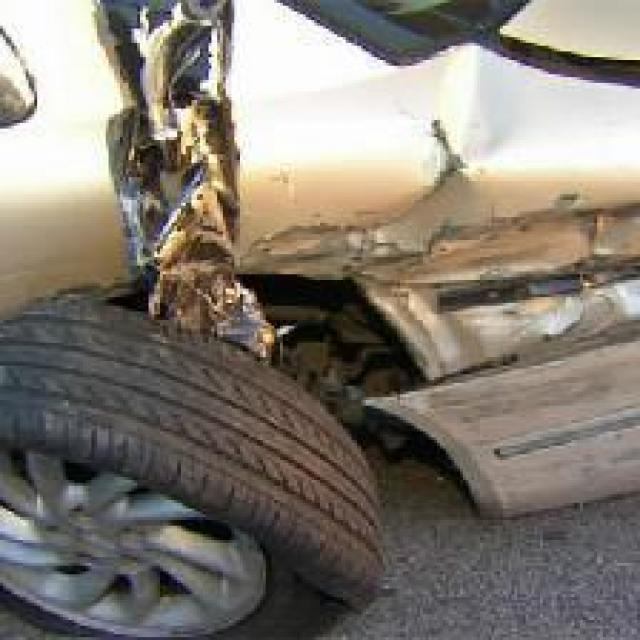damaged: (88, 0, 637, 511)
